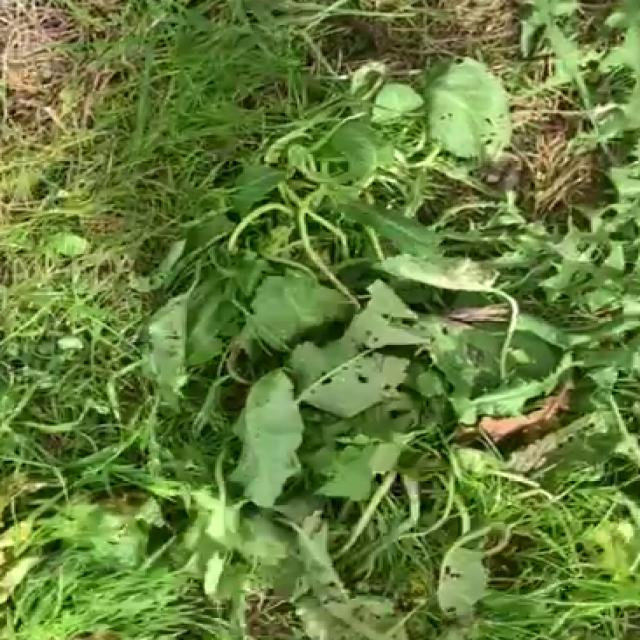organic waste: (106, 80, 640, 478), (0, 351, 574, 640)
